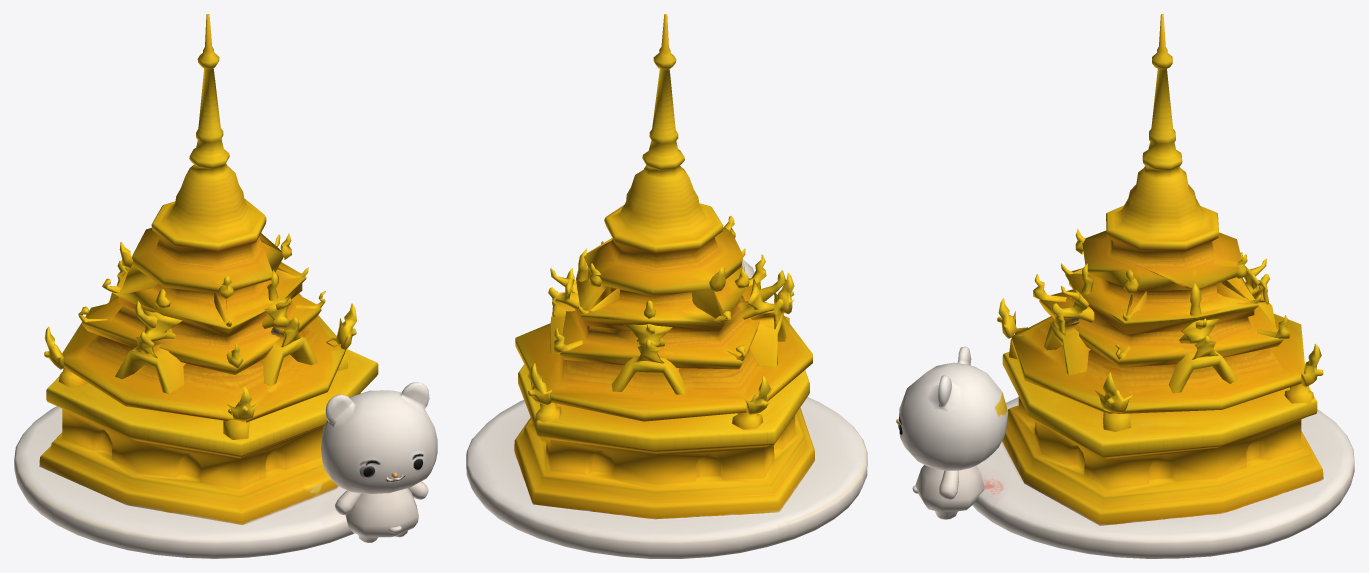
File: thai-envi-3.glb
3 renders of one model, left to right at view 1: azimuth 30°, elevation 25°; view 2: azimuth 150°, elevation 25°; view 3: azimuth 270°, elevation 25°, orthographic.
Parts seen in each view (by area): view 1: tripo_node_9771d5f4-180d-49fb-a05e-346f7bfd04fb; view 2: tripo_node_9771d5f4-180d-49fb-a05e-346f7bfd04fb; view 3: tripo_node_9771d5f4-180d-49fb-a05e-346f7bfd04fb.
Boxes of the visible parts, <box> form: tripo_node_9771d5f4-180d-49fb-a05e-346f7bfd04fb: <box>14,14,437,558</box>; tripo_node_9771d5f4-180d-49fb-a05e-346f7bfd04fb: <box>466,14,867,558</box>; tripo_node_9771d5f4-180d-49fb-a05e-346f7bfd04fb: <box>896,14,1354,558</box>.
Bounding box in the file's own units: 0.7749 × 0.9995 × 0.895.
Materials: 1 (1 with a texture image).
